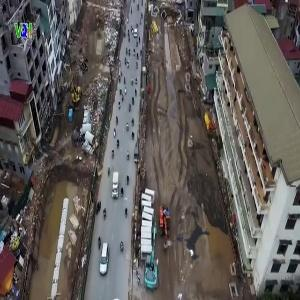drone: (148, 195, 235, 282)
